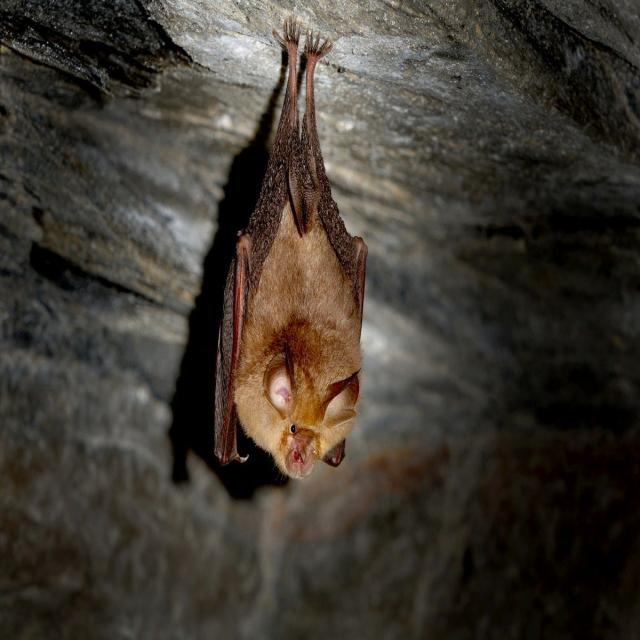bat: (215, 16, 367, 478)
